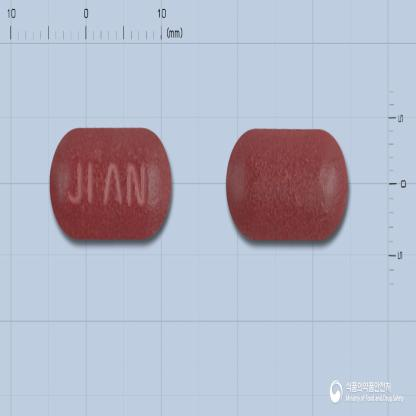pill: (48, 126, 173, 241), (225, 127, 349, 242)
